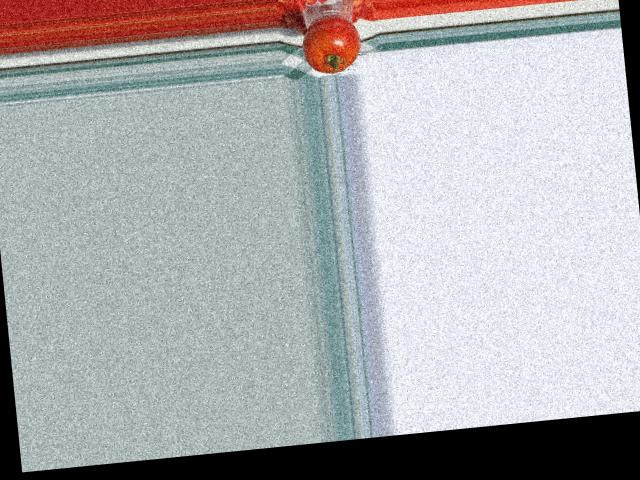tomato: (300, 14, 364, 76)
